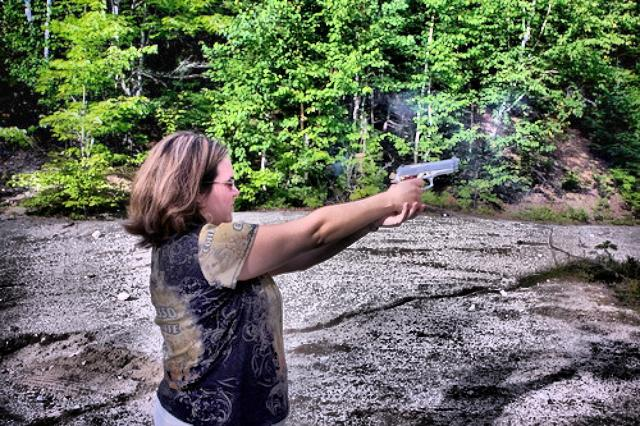pistol: (390, 156, 460, 192)
